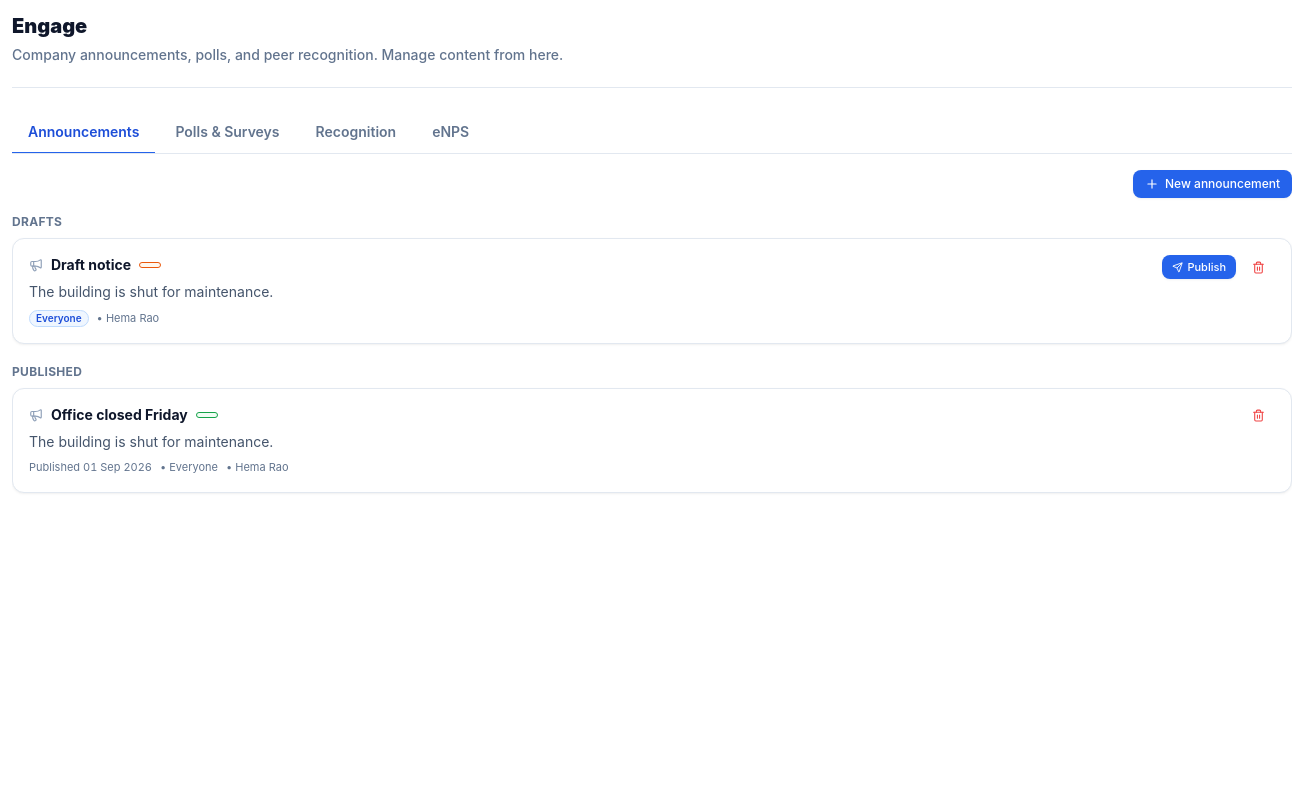
Test: announcements › says plainly that empty targeting means everyone
The width and height of the screenshot is (1304, 812).
Click the button "New announcement": point(1212, 184) [1133,170,1292,198]
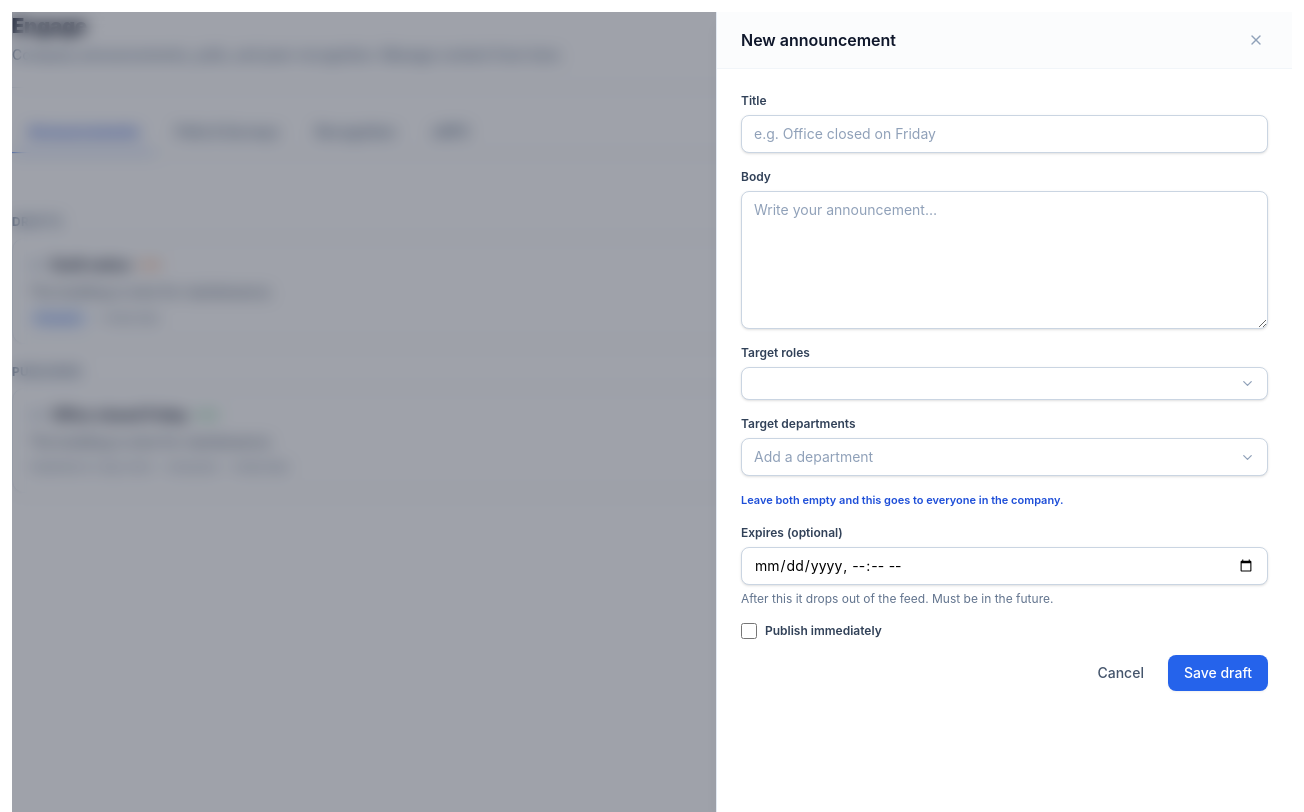
Expected: the text "Leave both empty and this goes to everyone in the company." is shown, [741,493,1064,507]
